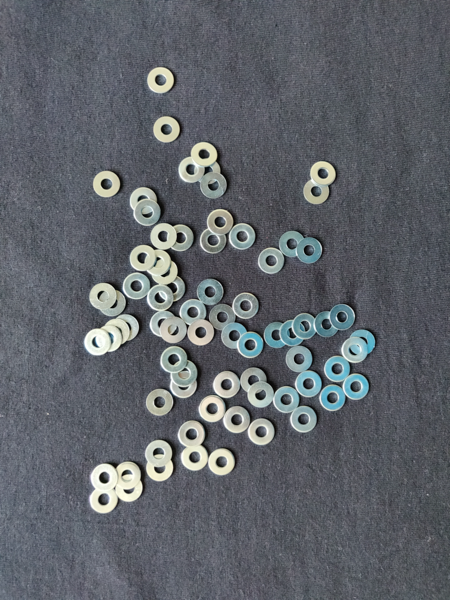circle: (151, 115, 183, 146), (145, 64, 177, 94), (88, 486, 118, 517), (284, 343, 312, 376), (145, 438, 175, 468), (147, 454, 178, 483), (123, 271, 152, 301), (197, 395, 227, 424), (194, 156, 222, 187), (231, 292, 262, 320), (329, 301, 357, 332), (289, 406, 320, 434), (114, 476, 145, 504), (206, 209, 235, 238), (146, 388, 175, 417), (340, 337, 369, 366), (349, 328, 378, 357), (249, 416, 278, 445), (180, 443, 209, 472), (208, 447, 237, 476), (90, 464, 119, 493), (291, 311, 319, 341), (313, 309, 341, 339), (273, 385, 303, 413), (223, 406, 253, 434), (149, 310, 178, 338), (237, 332, 266, 360), (213, 370, 242, 398), (199, 173, 229, 200), (128, 186, 158, 213), (246, 382, 276, 409), (296, 237, 324, 265), (229, 223, 257, 251), (200, 227, 228, 255), (187, 319, 215, 347), (160, 317, 188, 345), (221, 322, 249, 350), (324, 356, 352, 384), (93, 171, 122, 198), (89, 282, 116, 311), (179, 298, 206, 327), (96, 325, 123, 354), (169, 373, 198, 400), (295, 370, 322, 399), (342, 374, 371, 401), (178, 421, 207, 448), (264, 320, 290, 350), (280, 317, 306, 347), (158, 348, 188, 374), (116, 460, 142, 490), (170, 361, 201, 386), (149, 223, 177, 250), (158, 275, 186, 302), (100, 288, 127, 316), (84, 328, 111, 356), (318, 385, 346, 412), (105, 318, 130, 348), (279, 231, 306, 258), (167, 225, 194, 252), (145, 250, 172, 277), (178, 156, 204, 184), (259, 248, 285, 276), (197, 277, 223, 305), (241, 367, 269, 393), (309, 161, 338, 186), (116, 313, 141, 342), (135, 200, 161, 227), (129, 246, 156, 272), (153, 259, 179, 286), (304, 177, 329, 205), (147, 286, 175, 311), (191, 142, 218, 167), (210, 304, 235, 331)
